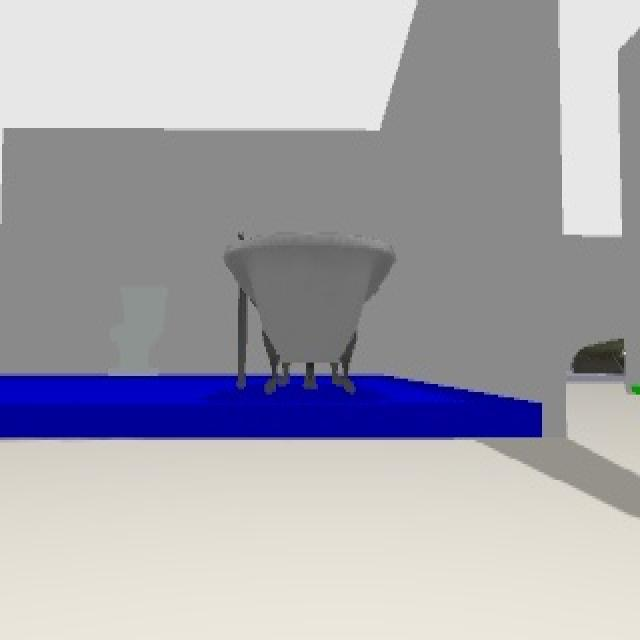bathtub: (222, 232, 398, 395)
